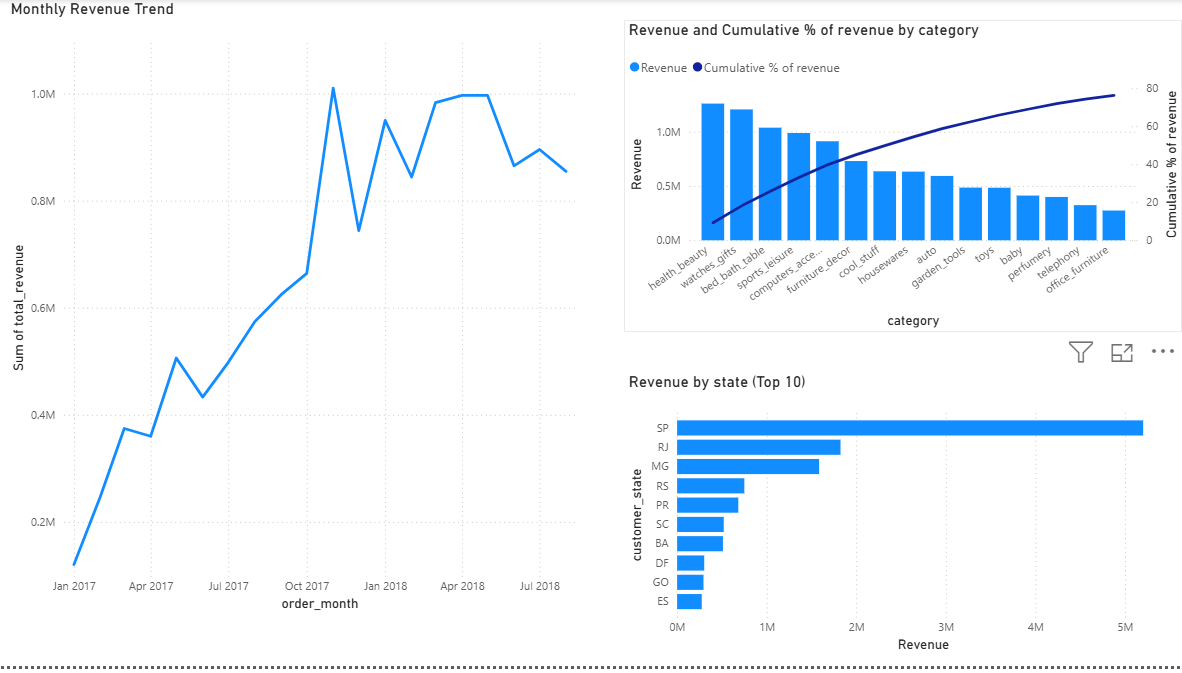

The dashboard page shown, as its layout file describes it:
{"tool":"powerbi","page":{"name":"Revenue and Growth","canvas":[1280,720],"ordinal":1},"visuals":[{"type":"lineChart","title":"Monthly Revenue Trend","fields":{"Y":["Sum(public vw_monthly_revenue.total_revenue)"],"Category":["public vw_monthly_revenue.order_month"]},"box":[9.4,0,631.2,665.2],"z":0},{"type":"lineClusteredColumnComboChart","fields":{"Category":["public vw_category_revenue.category"],"Y":["Sum(public vw_category_revenue.total_revenue)"],"Y2":["Sum(public vw_category_revenue.running_pct)"]},"box":[676.5,22.7,602.8,283.5],"z":1000},{"type":"clusteredBarChart","title":"Revenue by state (Top 10)","fields":{"Category":["public customers.customer_state"],"Y":["Sum(public orders_features.order_value)"]},"box":[676.5,359.1,602.8,306.1],"z":2000}]}

Visuals, with their boxes in screenshot pixels (x1, y1, x2, y2), scaled from the page's 1280x720 canvas onto the 1182x673 screenshot:
"Monthly Revenue Trend" lineChart: Rect(9, 0, 592, 622)
lineClusteredColumnComboChart - public vw_category_revenue.category x Sum(public vw_category_revenue.total_revenue): Rect(625, 21, 1181, 286)
"Revenue by state (Top 10)" clusteredBarChart: Rect(625, 336, 1181, 622)
